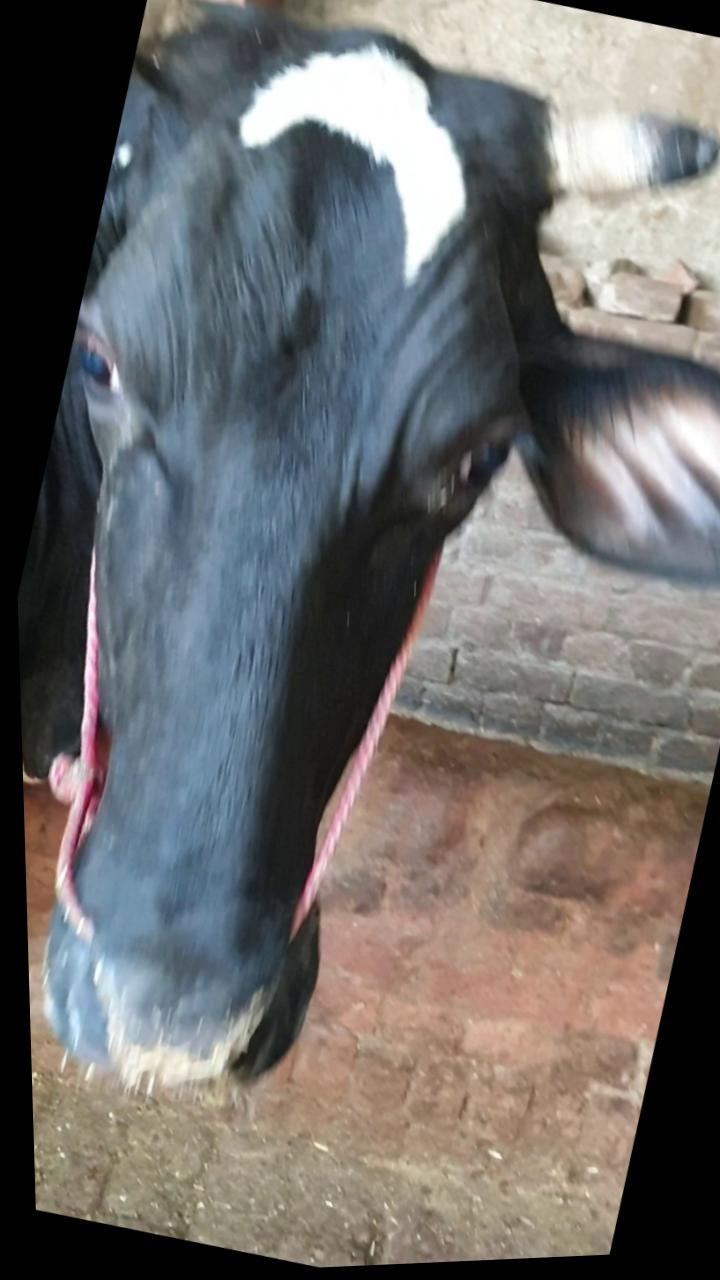cows: (0, 0, 620, 1130)
